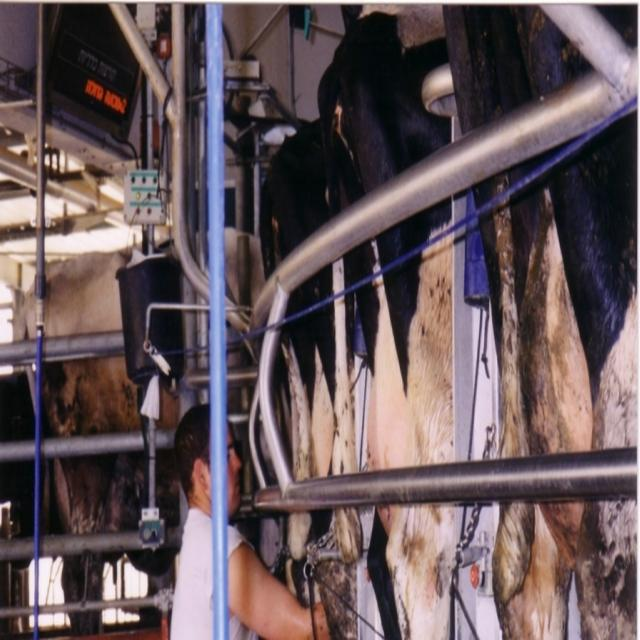Cattle: (0, 3, 637, 640)
